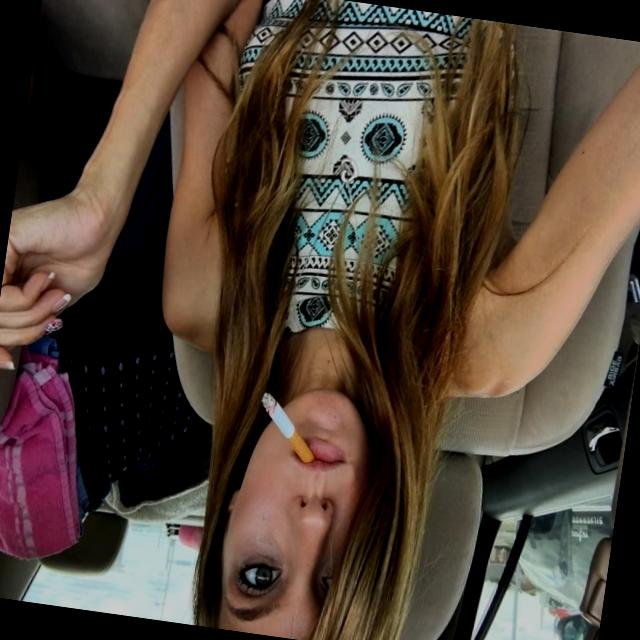cigarette: (248, 381, 324, 472)
